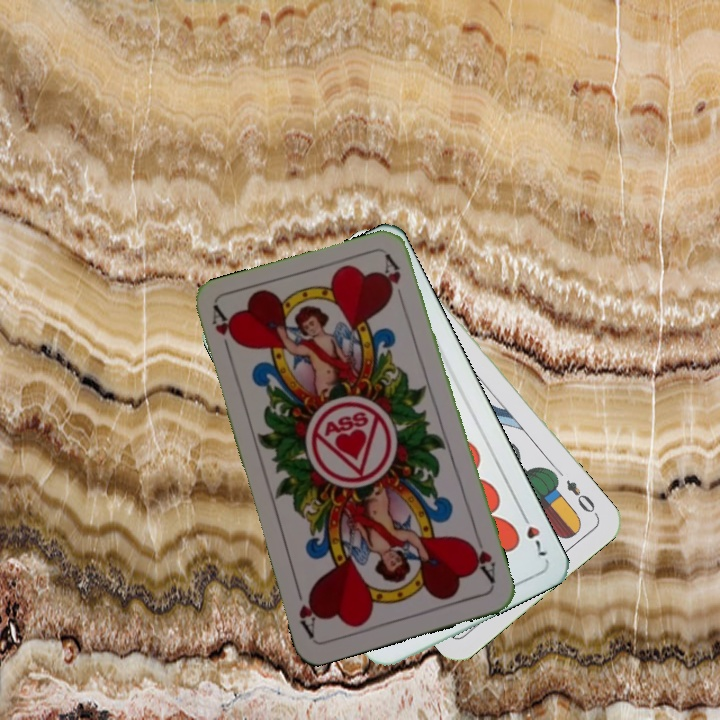EO: (562, 475, 601, 519)
H7: (516, 506, 552, 562)
HA: (207, 303, 241, 362), (464, 530, 498, 587)
